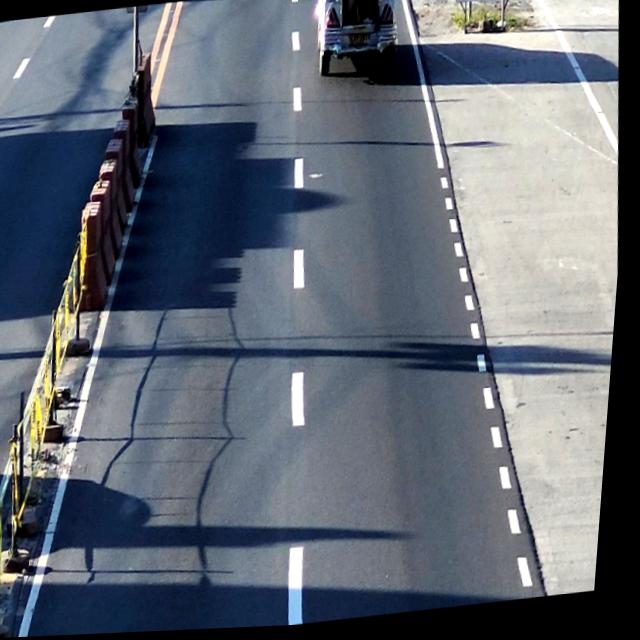Jeep: (311, 0, 401, 88)
